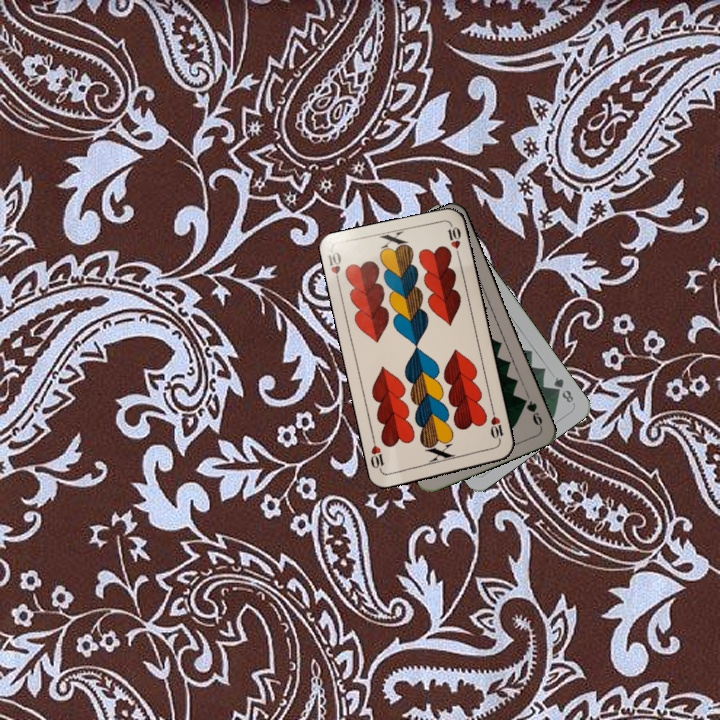G8: (549, 373, 576, 405)
G9: (517, 394, 545, 430)
H10: (486, 406, 506, 446), (324, 248, 344, 288)
